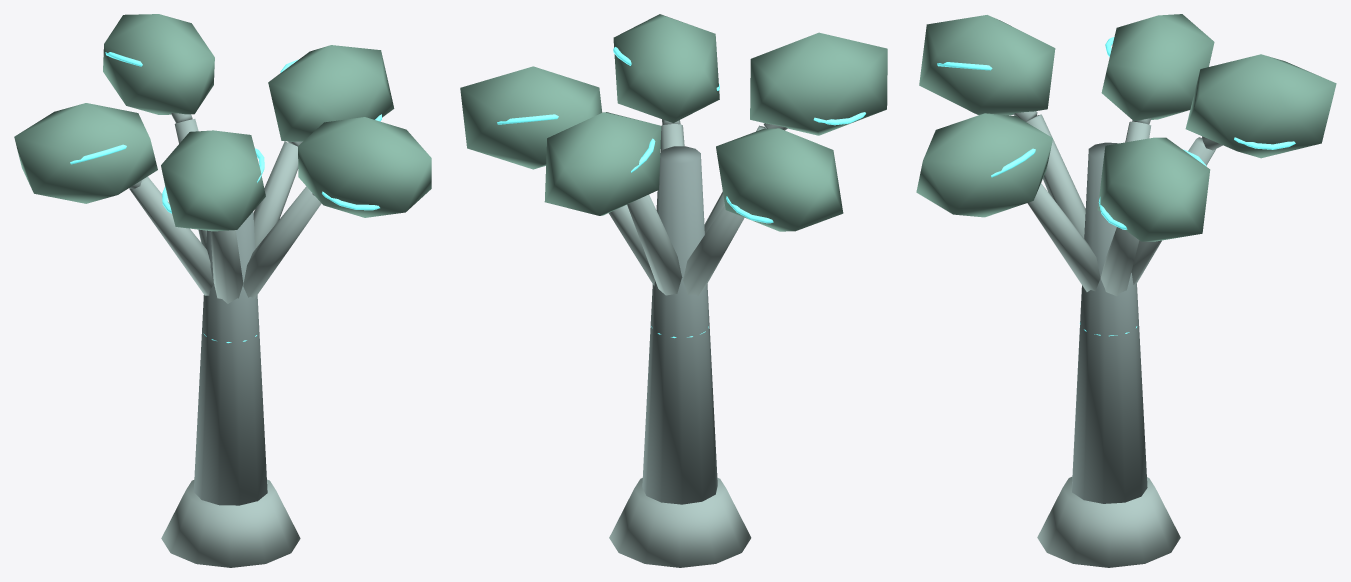
Rendered from future-tree-2127.glb.
The picture shows the model from 3 angles, left to right: view 1: azimuth 30°, elevation 25°; view 2: azimuth 150°, elevation 25°; view 3: azimuth 270°, elevation 25°; orthographic projection. The views are drawn at different scales.
Visible parts, largest first — view 1: Tapered trunk, Photovoltaic crown.002, Photovoltaic crown.004, Photovoltaic crown.001, Photovoltaic crown, Photovoltaic crown.003, Root collar, Structural branch.004, Structural branch.002, Structural branch, Structural branch.003; view 2: Tapered trunk, Photovoltaic crown.003, Photovoltaic crown.002, Photovoltaic crown.001, Photovoltaic crown, Photovoltaic crown.004, Root collar, Structural branch.001, Structural branch.002, Structural branch, Structural branch.004; view 3: Tapered trunk, Photovoltaic crown.001, Photovoltaic crown.003, Photovoltaic crown.004, Photovoltaic crown, Photovoltaic crown.002, Root collar, Structural branch.004, Structural branch.003, Structural branch, Structural branch.001.
Boxes of the visible parts, <box> form: Tapered trunk: <box>193,211,267,505</box>; Photovoltaic crown.002: <box>14,103,157,203</box>; Photovoltaic crown.004: <box>298,117,431,217</box>; Photovoltaic crown.001: <box>103,14,214,114</box>; Photovoltaic crown: <box>268,45,394,141</box>; Photovoltaic crown.003: <box>161,130,265,231</box>; Root collar: <box>161,479,300,567</box>; Structural branch.004: <box>243,186,321,298</box>; Structural branch.002: <box>129,176,213,295</box>; Structural branch: <box>253,141,298,248</box>; Structural branch.003: <box>210,230,243,303</box>; Tapered trunk: <box>642,146,717,504</box>; Photovoltaic crown.003: <box>750,32,887,135</box>; Photovoltaic crown.002: <box>716,128,843,231</box>; Photovoltaic crown.001: <box>544,112,661,215</box>; Photovoltaic crown: <box>460,66,602,169</box>; Photovoltaic crown.004: <box>613,14,719,122</box>; Root collar: <box>609,477,751,567</box>; Structural branch.001: <box>627,194,682,295</box>; Structural branch.002: <box>683,205,744,295</box>; Structural branch: <box>609,205,654,285</box>; Structural branch.004: <box>660,124,684,152</box>; Tapered trunk: <box>1072,142,1147,503</box>; Photovoltaic crown.001: <box>1185,54,1336,158</box>; Photovoltaic crown.003: <box>919,15,1055,115</box>; Photovoltaic crown.004: <box>916,113,1052,217</box>; Photovoltaic crown: <box>1097,137,1210,241</box>; Photovoltaic crown.002: <box>1101,14,1214,120</box>; Root collar: <box>1037,477,1180,567</box>; Structural branch.004: <box>1027,183,1100,291</box>; Structural branch.003: <box>1026,114,1085,238</box>; Structural branch: <box>1100,227,1139,296</box>; Structural branch.001: <box>1131,137,1215,284</box>.
Size of the model in its own units: 5.12 by 6.33 by 4.97.
